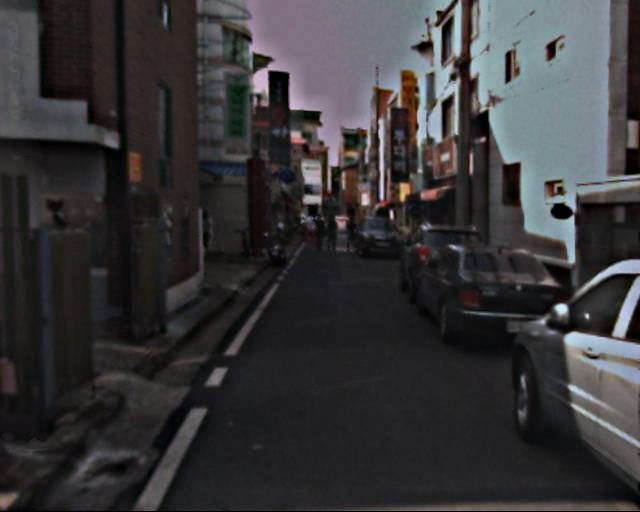person: (200, 210, 220, 258), (326, 212, 342, 252), (344, 217, 360, 256), (313, 213, 329, 251)
